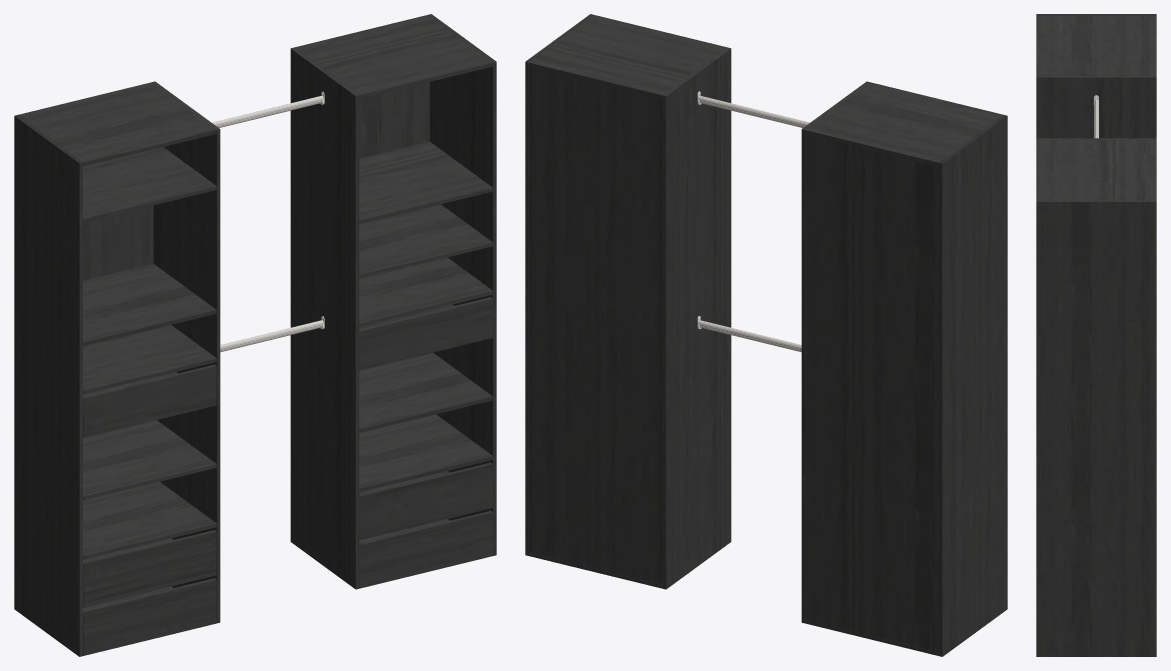
File: abo-B07GFRY6WF.glb
3 views of the same model, side by side, from view 1: azimuth 30°, elevation 25°; view 2: azimuth 150°, elevation 25°; view 3: azimuth 270°, elevation 25° (orthographic). The views are drawn at different scales.
Bounding box in the file's own units: 1.77 × 2 × 0.48.
1 material, 1 textured.
